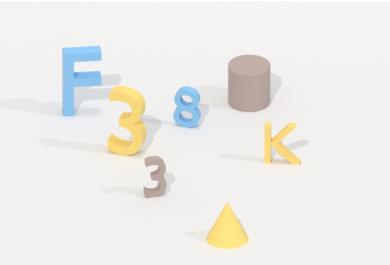0-KhoiTru: (225, 52, 274, 114)
0-TamGiac: (202, 200, 254, 252)
3: (105, 83, 149, 158), (142, 154, 168, 200)
8: (170, 85, 204, 129)
F: (59, 44, 103, 119)
K: (261, 117, 304, 168)
